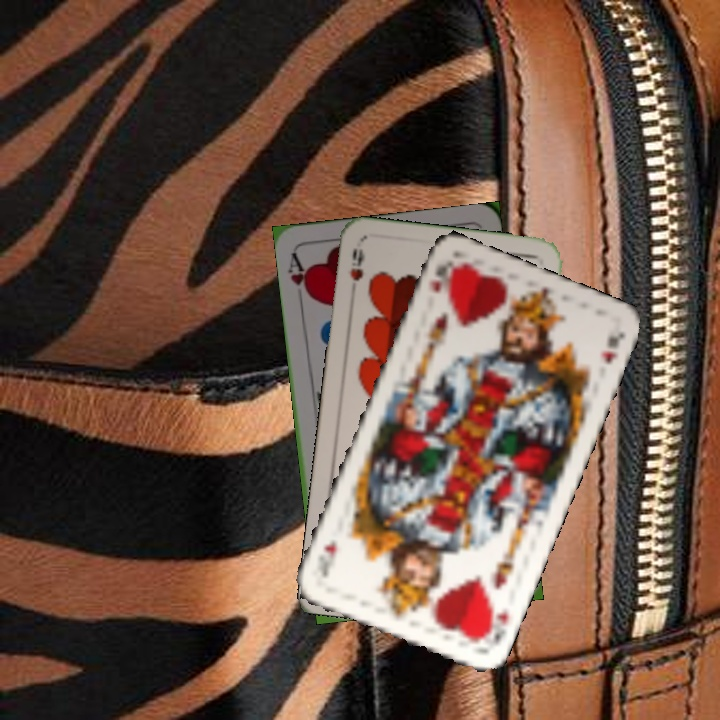H9: (346, 244, 367, 283)
HA: (284, 249, 314, 308)
HK: (475, 599, 512, 652), (426, 261, 456, 295)
